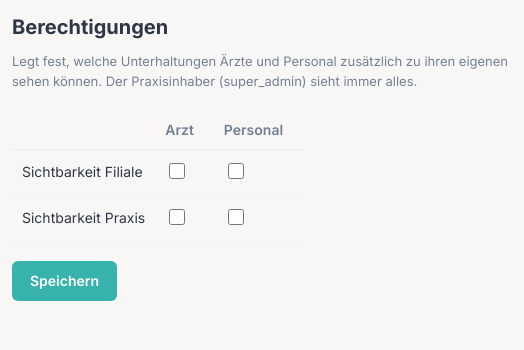
it: AdminPermissionsPage › toggling a checkbox and saving PUTs the updated matrix
Expected: the text "Sichtbarkeit Filiale" is shown, [12,150,155,195]
# First row (Sichtbarkeit Filiale), first column (Arzt).
Step 1. Click the 1st checkbox → (177, 171), box [169,163,185,179]
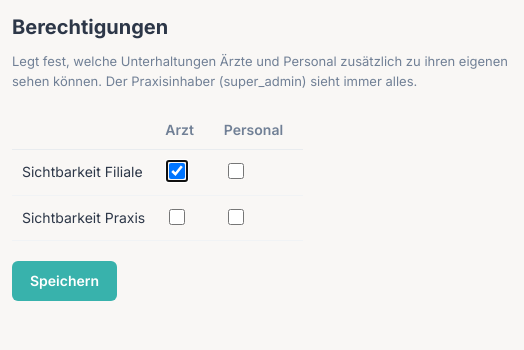
Step 2. Click the button "Speichern" → (65, 281), box [12,261,117,301]
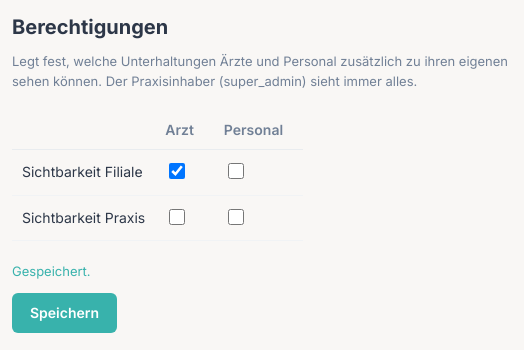
Result: the text "Gespeichert." is shown at [12,263,91,279]
